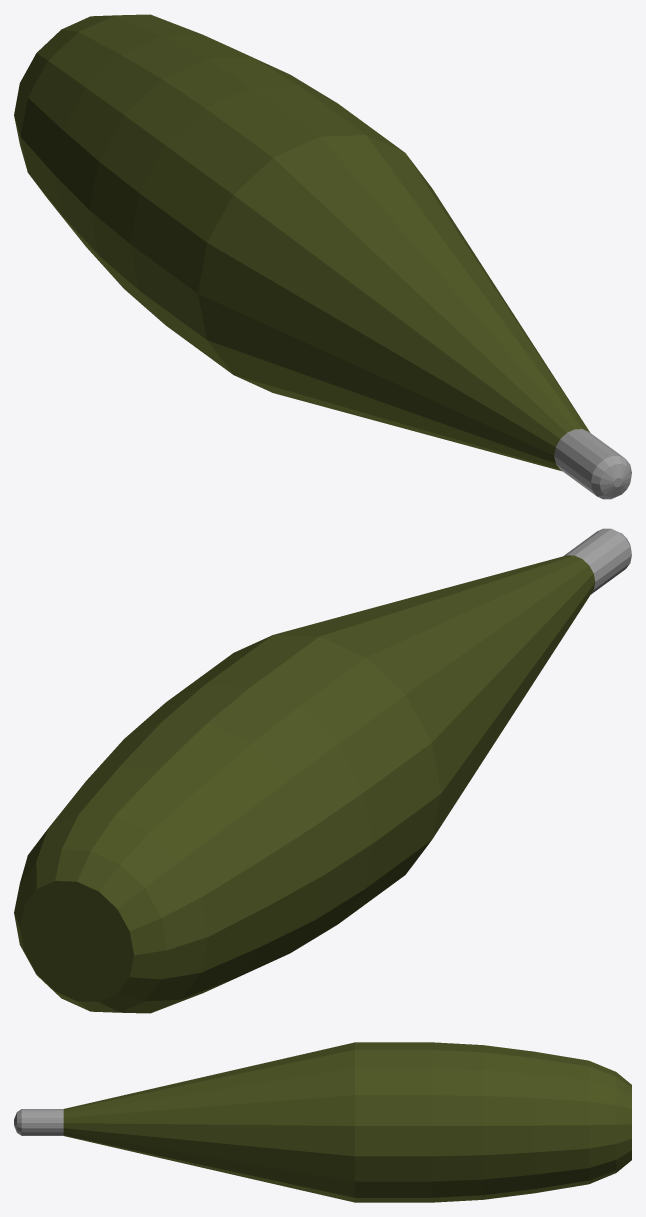
Rendered from bomb.fbx.
3 renders of one model, top to bottom at view 1: azimuth 30°, elevation 25°; view 2: azimuth 150°, elevation 25°; view 3: azimuth 270°, elevation 25°, orthographic. The views are drawn at different scales.
Parts seen in each view (by area): view 1: bomb; view 2: bomb; view 3: bomb.
Part boxes in pixels (bbox=[...]): bomb: bbox=[14, 14, 631, 499]; bomb: bbox=[14, 528, 631, 1013]; bomb: bbox=[14, 1042, 631, 1202].
Bounding box in the file's own units: 6.36 × 6.36 × 24.49.
